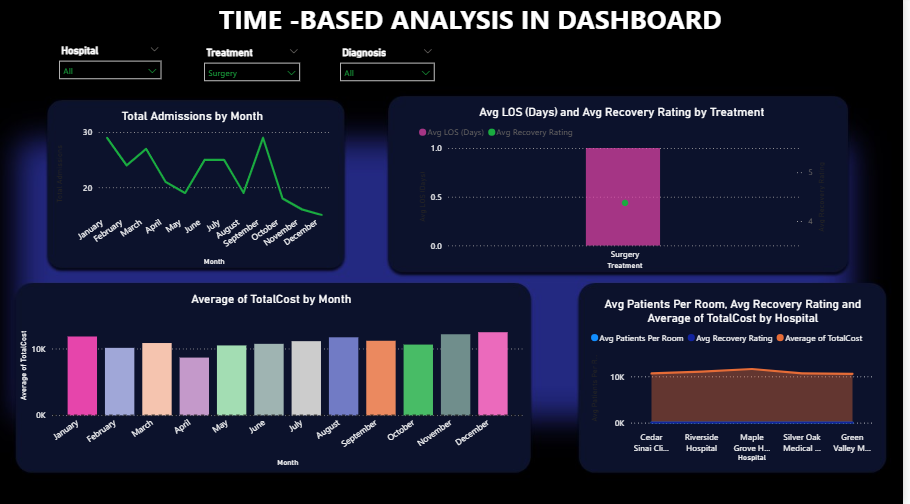

The dashboard page shown, as its layout file describes it:
{"tool":"powerbi","page":{"name":"Time-Based Analysis in Dashboard","canvas":[1280,720],"ordinal":22},"visuals":[{"type":"textbox","box":[152.9,0,1029.7,63.8],"z":0},{"type":"lineChart","fields":{"Category":["MergedTable.AdmissionDate.Variation.Date Hierarchy.Month"],"Y":["MergedTable.Total Admissions"]},"box":[75.5,158.2,398.2,227.3],"z":1000},{"type":"clusteredColumnChart","fields":{"Category":["MergedTable.AdmissionDate.Variation.Date Hierarchy.Month"],"Y":["Avg(MergedTable.TotalCost)"]},"box":[24.5,418.2,723.6,251.8],"z":2000},{"type":"lineClusteredColumnComboChart","fields":{"Category":["MergedTable.Treatment"],"Y":["MergedTable.Avg LOS (Days)"],"Y2":["MergedTable.Avg Recovery Rating"]},"box":[589.1,152.7,586.4,238.2],"z":3000},{"type":"areaChart","fields":{"Category":["MergedTable.Hospital"],"Y":["MergedTable.Avg Patients Per Room","MergedTable.Avg Recovery Rating","Avg(MergedTable.TotalCost)"]},"box":[832.7,425.5,413.6,238.2],"z":4000},{"type":"slicer","fields":{"Values":["MergedTable.Diagnosis"]},"box":[473.6,64.5,153.6,67.3],"z":5000},{"type":"slicer","fields":{"Values":["MergedTable.Hospital"]},"box":[75.5,62.7,164.5,66.4],"z":6000},{"type":"slicer","fields":{"Values":["MergedTable.Treatment"]},"box":[280.9,64.5,156.4,66.4],"z":7000}]}

Visuals, with their boxes in screenshot pixels (x1, y1, x2, y2), scaled from the page's 1280x720 canvas onto the 910x504 screenshot:
textbox: <bbox>109, 0, 841, 45</bbox>
lineChart - MergedTable.AdmissionDate.Variation.Date Hierarchy.Month x MergedTable.Total Admissions: <bbox>54, 111, 337, 270</bbox>
clusteredColumnChart - MergedTable.AdmissionDate.Variation.Date Hierarchy.Month x Avg(MergedTable.TotalCost): <bbox>17, 293, 532, 469</bbox>
lineClusteredColumnComboChart - MergedTable.Treatment x MergedTable.Avg LOS (Days): <bbox>419, 107, 836, 274</bbox>
areaChart - MergedTable.Hospital x MergedTable.Avg Patients Per Room: <bbox>592, 298, 886, 465</bbox>
slicer - MergedTable.Diagnosis: <bbox>337, 45, 446, 92</bbox>
slicer - MergedTable.Hospital: <bbox>54, 44, 171, 90</bbox>
slicer - MergedTable.Treatment: <bbox>200, 45, 311, 92</bbox>
